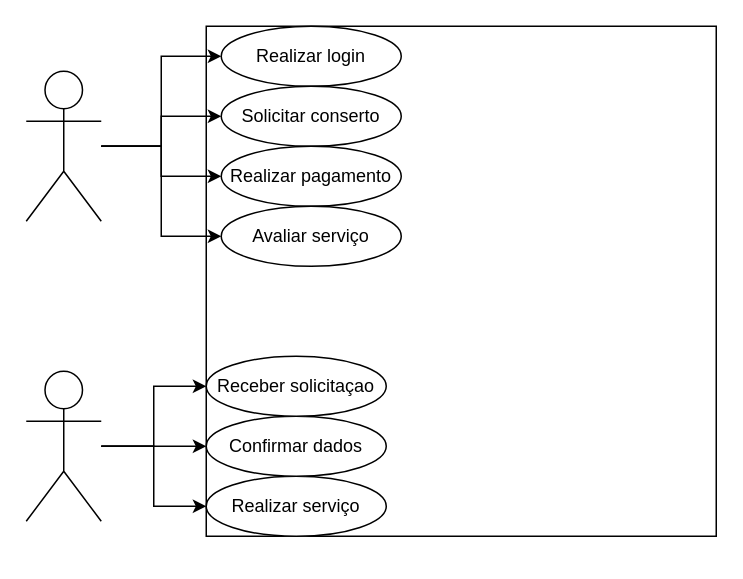
This 743x579 diagram has some shape labels left out. Here are the shapes that lost their labels. From the top down, the centre of each, then its label:
pixel 63 145: Cliente
pixel 63 445: Técnico
